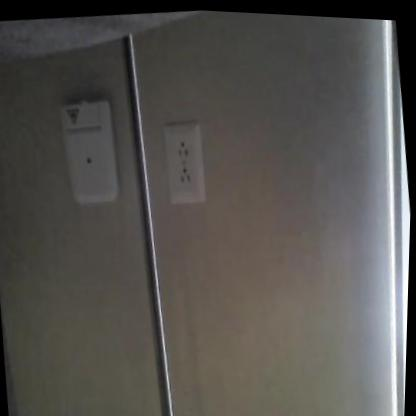OUTLET: (162, 118, 209, 205)
